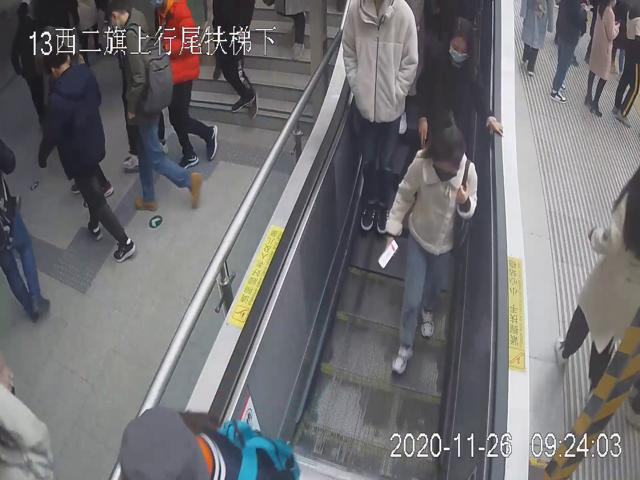person: (380, 109, 477, 376), (414, 11, 503, 165)
